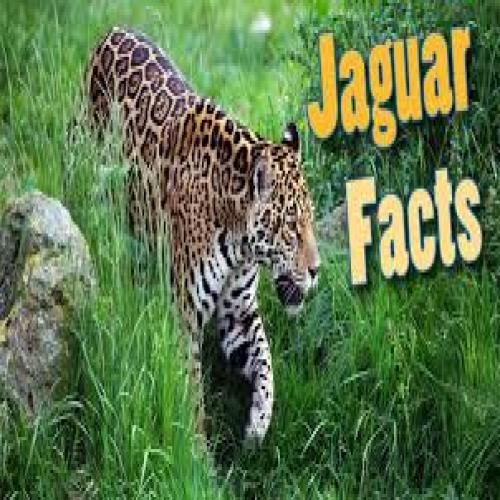jaguar_not-endangered: (83, 25, 321, 452)
